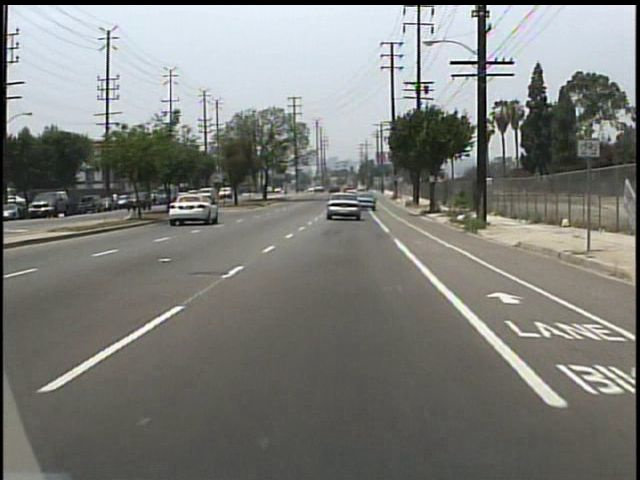person: (112, 191, 121, 210)
